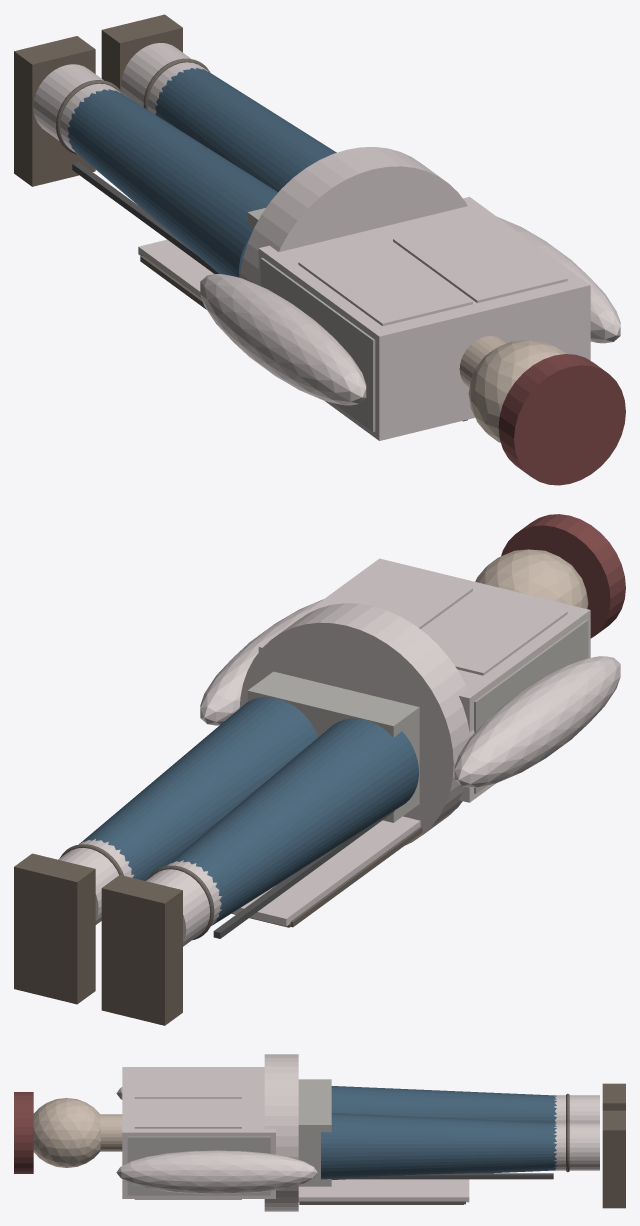
File: MASTER_061_STAGE3_DETAIL.glb
3 views of the same model, one above another, from view 1: azimuth 30°, elevation 25°; view 2: azimuth 150°, elevation 25°; view 3: azimuth 270°, elevation 25° (orthographic). The views are drawn at different scales.
Parts seen in each view (by area): view 1: slot_upper_inner__këmishë, slot_lower_main__tirq_L, slot_waist__brez, slot_headwear__mbulesë_koke, slot_upper_inner_sleeve_L, slot_lower_main__tirq_R, slot_upper_outer__jelek_R, slot_upper_outer__jelek_L, slot_footwear__opinga_L, mannequin_torso, mannequin_head, slot_footwear__opinga_R (+6 smaller); view 2: slot_lower_main__tirq_L, slot_waist__brez, slot_lower_main__tirq_R, slot_footwear__opinga_R, slot_footwear__opinga_L, slot_upper_inner_sleeve_L, slot_upper_outer__jelek_L, slot_headwear__mbulesë_koke, mannequin_hips, slot_upper_inner__këmishë, slot_apron_front__përparëse, slot_upper_outer__jelek_R (+7 smaller); view 3: slot_lower_main__tirq_R, slot_upper_inner_sleeve_R, slot_lower_main__tirq_L, slot_upper_inner__këmishë, mannequin_head, slot_waist__brez, slot_apron_front__përparëse, slot_upper_outer__jelek_R, slot_upper_outer__jelek_L, mannequin_torso, mannequin_hips, slot_footwear__opinga_R (+7 smaller).
Part boxes in pixels (box(x1,y1,x2,y2)): slot_upper_inner__këmishë: box(258, 197, 590, 440); slot_lower_main__tirq_L: box(67, 89, 277, 277); slot_waist__brez: box(240, 147, 467, 285); slot_headwear__mbulesë_koke: box(498, 354, 625, 485); slot_upper_inner_sleeve_L: box(200, 274, 366, 405); slot_lower_main__tirq_R: box(155, 68, 336, 192); slot_upper_outer__jelek_R: box(393, 217, 567, 302); slot_upper_outer__jelek_L: box(298, 240, 472, 326); slot_footwear__opinga_L: box(14, 36, 95, 186); mannequin_torso: box(260, 257, 375, 431); mannequin_head: box(468, 340, 566, 442); slot_footwear__opinga_R: box(101, 14, 182, 91); slot_lower_main__tirq_L: box(167, 718, 418, 925); slot_waist__brez: box(239, 603, 474, 845); slot_lower_main__tirq_R: box(79, 697, 318, 880); slot_footwear__opinga_R: box(14, 853, 95, 1004); slot_footwear__opinga_L: box(101, 875, 182, 1025); slot_upper_inner_sleeve_L: box(454, 656, 620, 787); slot_upper_outer__jelek_L: box(422, 589, 567, 675); slot_headwear__mbulesë_koke: box(501, 514, 625, 638); mannequin_hips: box(247, 671, 419, 822); slot_upper_inner__këmishë: box(258, 558, 590, 802); slot_apron_front__përparëse: box(232, 816, 420, 926); slot_upper_outer__jelek_R: box(329, 566, 472, 628); slot_lower_main__tirq_R: box(321, 1113, 556, 1179); slot_upper_inner_sleeve_R: box(116, 1150, 317, 1194); slot_lower_main__tirq_L: box(331, 1086, 556, 1122); slot_upper_inner__këmishë: box(122, 1067, 275, 1198); mannequin_head: box(33, 1098, 100, 1167); slot_waist__brez: box(264, 1054, 298, 1211); slot_apron_front__përparëse: box(298, 1179, 469, 1202); slot_upper_outer__jelek_R: box(134, 1098, 241, 1199); slot_upper_outer__jelek_L: box(134, 1069, 241, 1098); mannequin_torso: box(127, 1136, 270, 1195); mannequin_hips: box(298, 1079, 331, 1186); slot_footwear__opinga_R: box(602, 1110, 625, 1208).
Bounding box in the file's own units: 0.6457 × 0.44 × 1.71.
